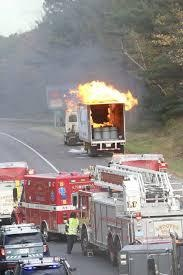fire: (63, 79, 139, 128)
